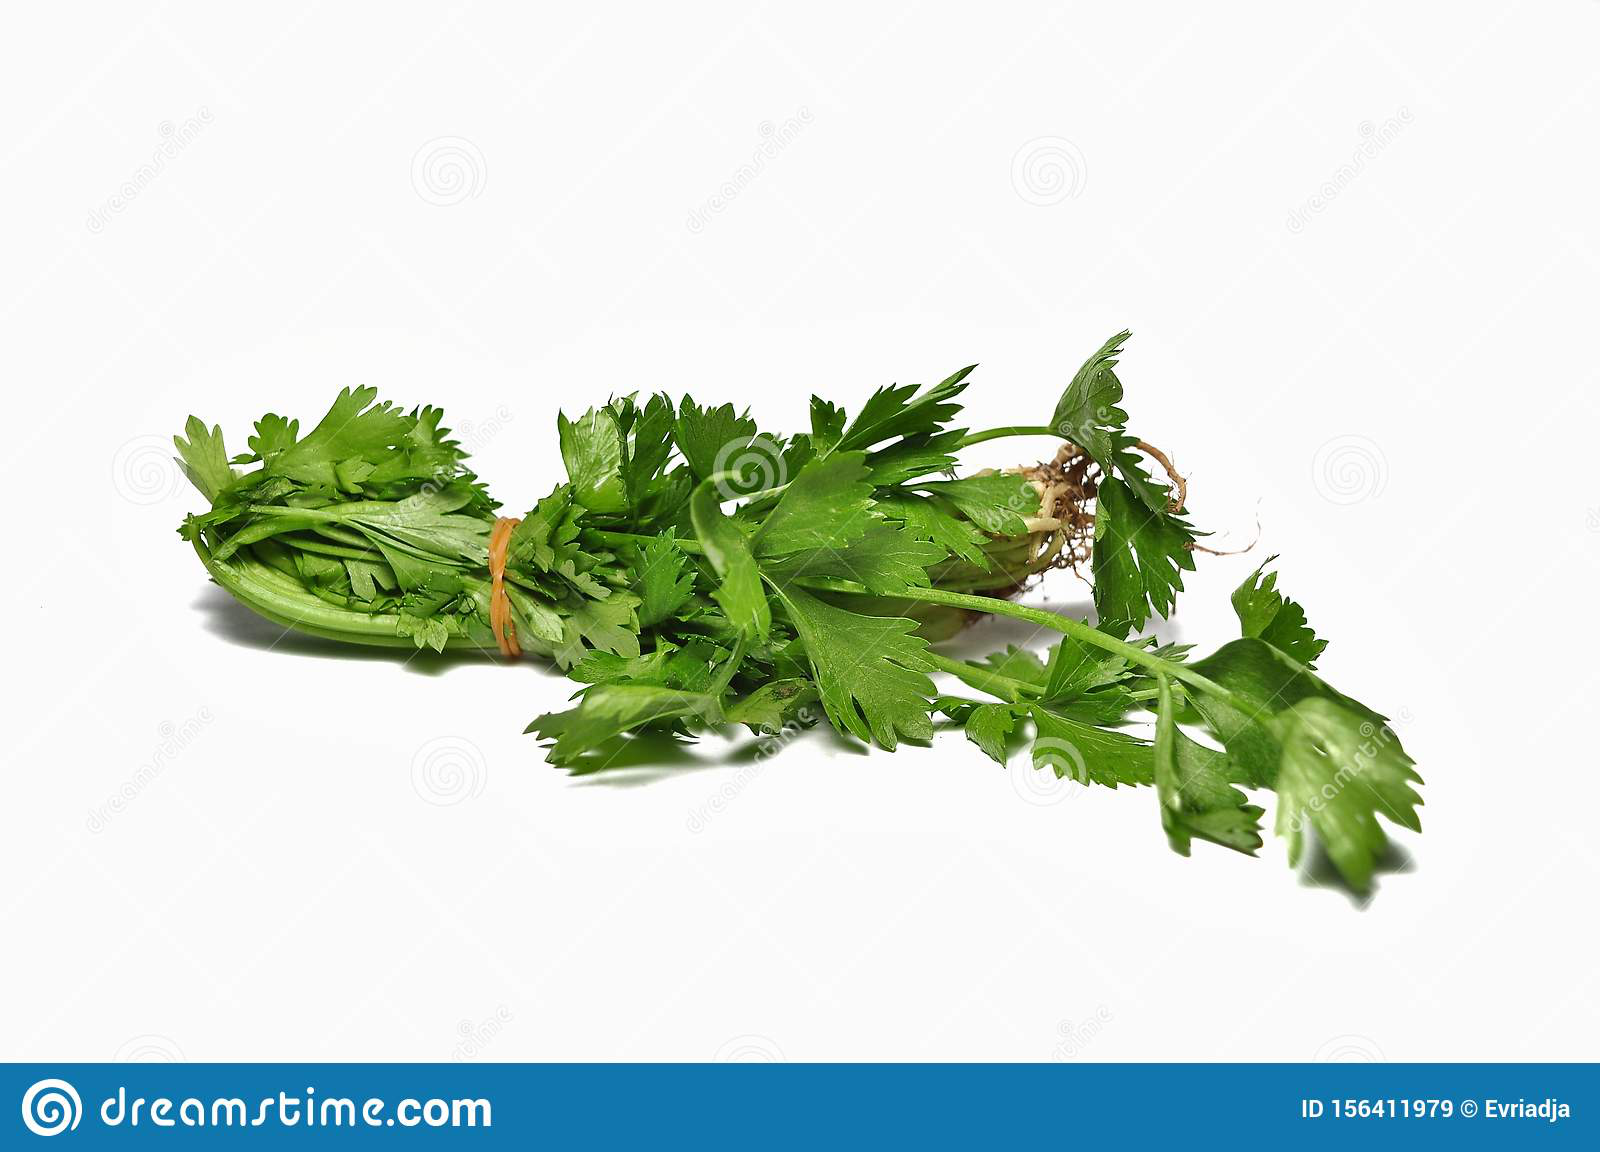Seledri: (185, 326, 1458, 944)
